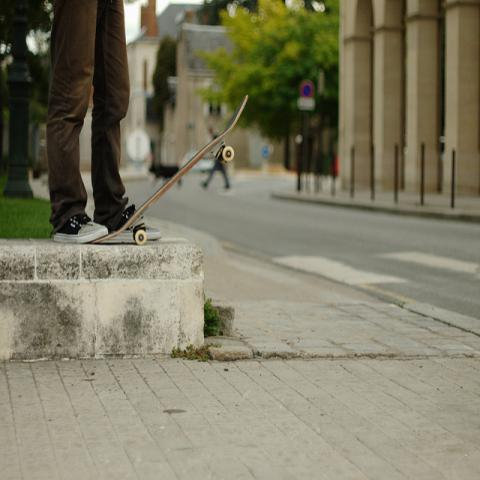car: (181, 151, 217, 174)
